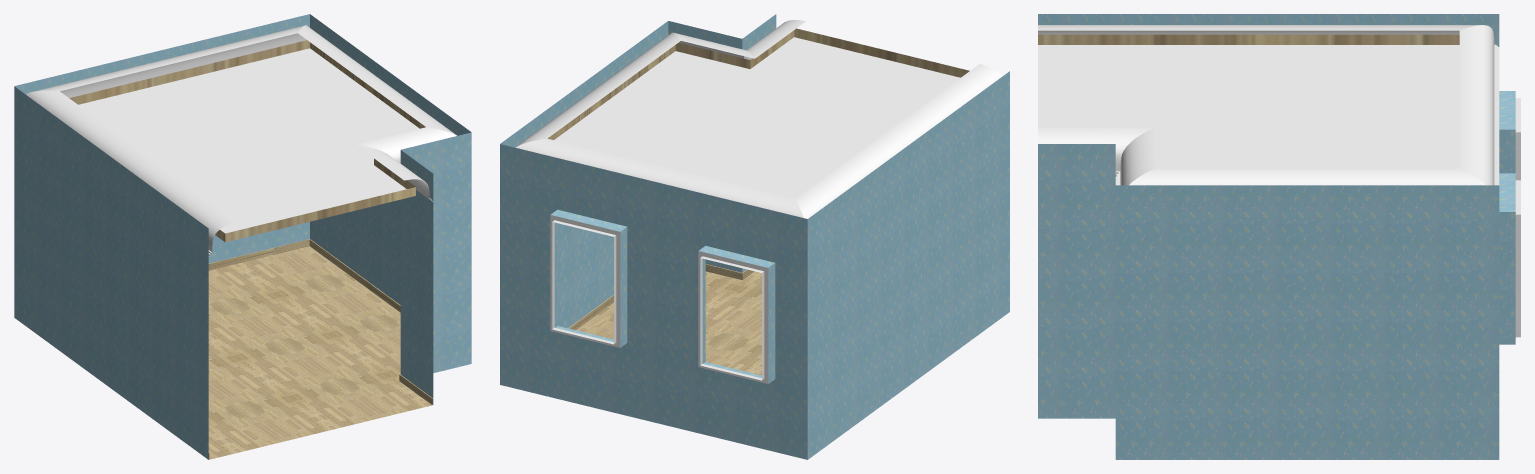
The model's file is BedRoom02.FBX.
The picture shows the model from 3 angles, left to right: view 1: azimuth 30°, elevation 25°; view 2: azimuth 150°, elevation 25°; view 3: azimuth 270°, elevation 25°; orthographic projection. The views are drawn at different scales.
Visible parts, largest first — view 1: room; view 2: room; view 3: room.
Part boxes in pixels (x1=…): room: x1=14, y1=14, x2=471, y2=459; room: x1=500, y1=14, x2=1009, y2=459; room: x1=1038, y1=14, x2=1520, y2=459.
Size of the model in its own units: 374 by 446 by 280.
